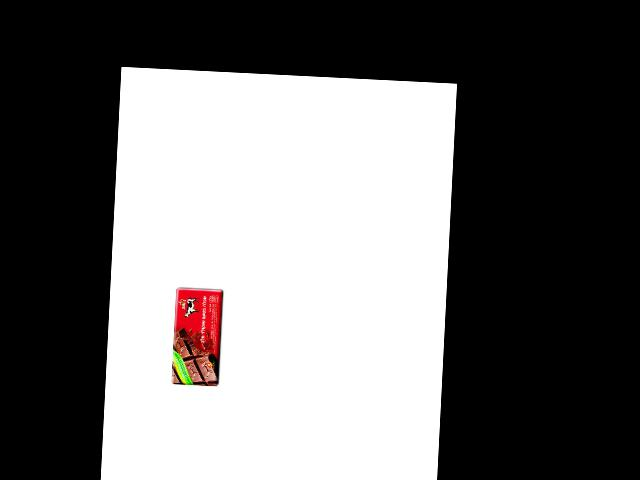chocolate: (169, 284, 228, 386)
